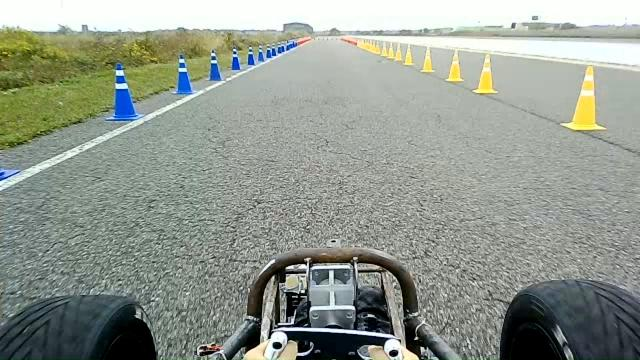blue cone: (104, 62, 144, 121), (171, 54, 195, 94), (206, 49, 223, 81), (230, 46, 241, 70), (247, 45, 256, 66), (257, 44, 265, 62), (266, 43, 272, 58)
yellow cone: (560, 64, 607, 131), (472, 53, 498, 94), (444, 48, 464, 82), (420, 46, 435, 73), (403, 43, 414, 65), (394, 42, 403, 62), (387, 42, 395, 59), (381, 42, 388, 57), (374, 43, 381, 55)
